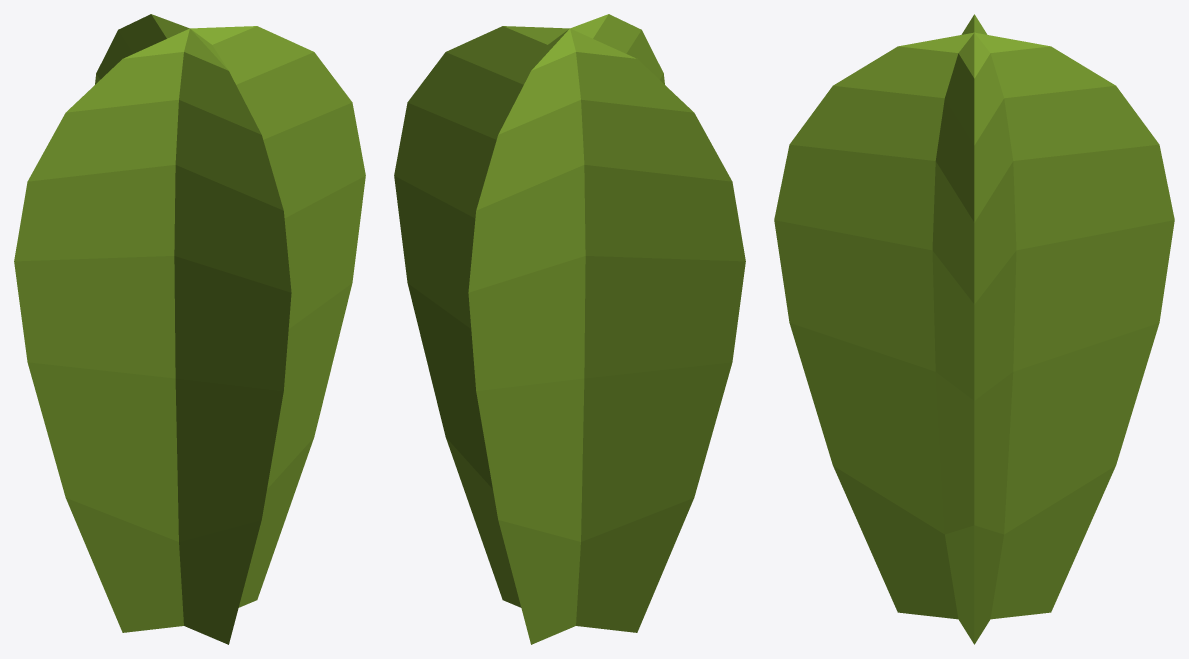
File: Cactus_31_A.fbx
3 views of the same model, side by side, from view 1: azimuth 30°, elevation 25°; view 2: azimuth 150°, elevation 25°; view 3: azimuth 270°, elevation 25° (orthographic).
Visible parts, largest first — view 1: Cactus_31_A; view 2: Cactus_31_A; view 3: Cactus_31_A.
Boxes of the visible parts, x1=… form: Cactus_31_A: x1=14, y1=14, x2=365, y2=644; Cactus_31_A: x1=394, y1=14, x2=745, y2=644; Cactus_31_A: x1=774, y1=14, x2=1174, y2=644.
Bounding box in the file's own units: 56.38 × 90.06 × 56.38.
